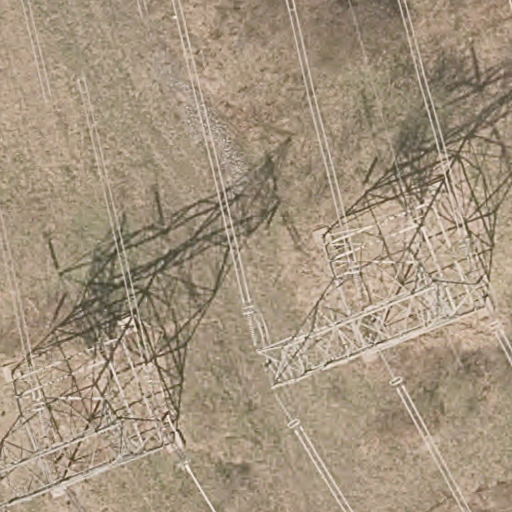TT: (254, 160, 501, 392), (1, 283, 192, 512)
